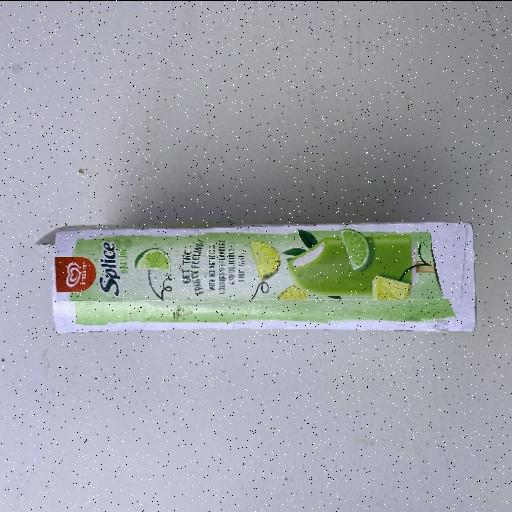Cardboard: (50, 221, 476, 335)
